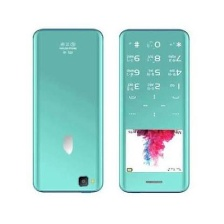phone: (115, 25, 195, 197), (29, 25, 105, 196)
